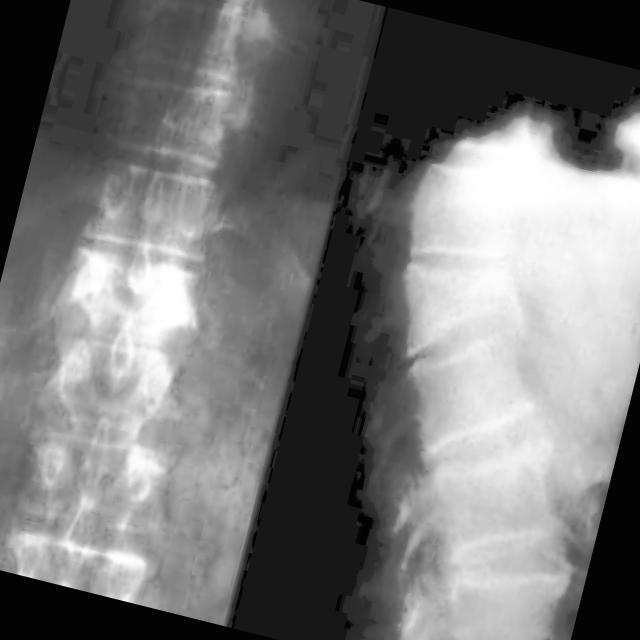Compression-Crush Fracutre: (390, 318, 545, 449), (376, 248, 548, 346)
